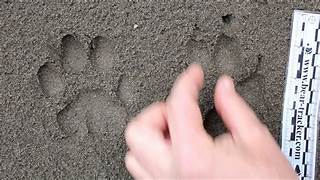puma: (30, 31, 135, 149)
